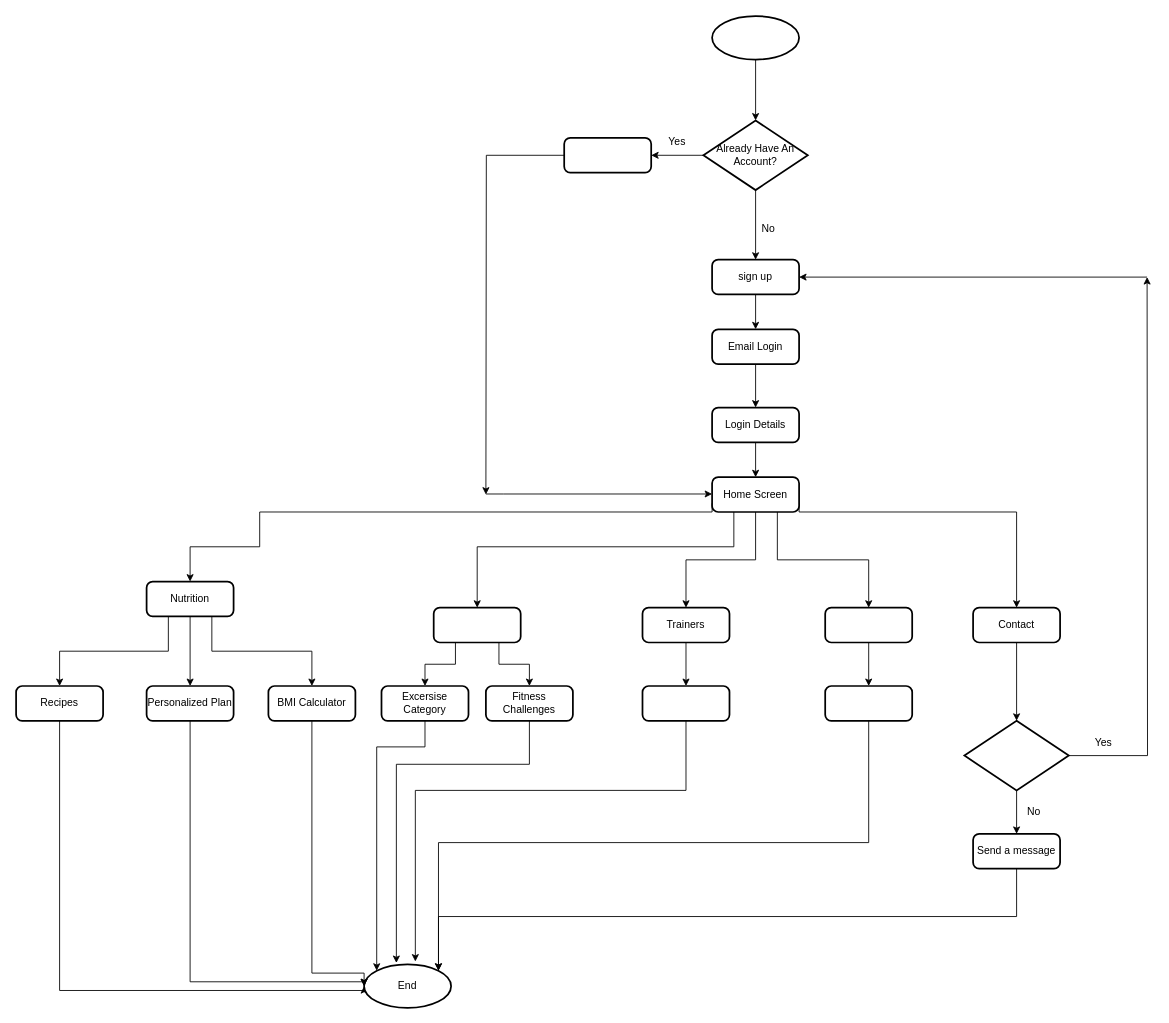
This 1169x1023 diagram has some shape labels left out. Here are the shapes that lost their labels. From the top down, the box of each, then its label:
(711, 15, 800, 60): Start
(563, 137, 652, 173): log in
(432, 606, 521, 643): Fitness
(824, 606, 913, 643): Rewards
(641, 685, 730, 721): Book Trainers
(824, 685, 913, 721): Claim Rewards
(963, 719, 1069, 791): Don`t Have an Account?
